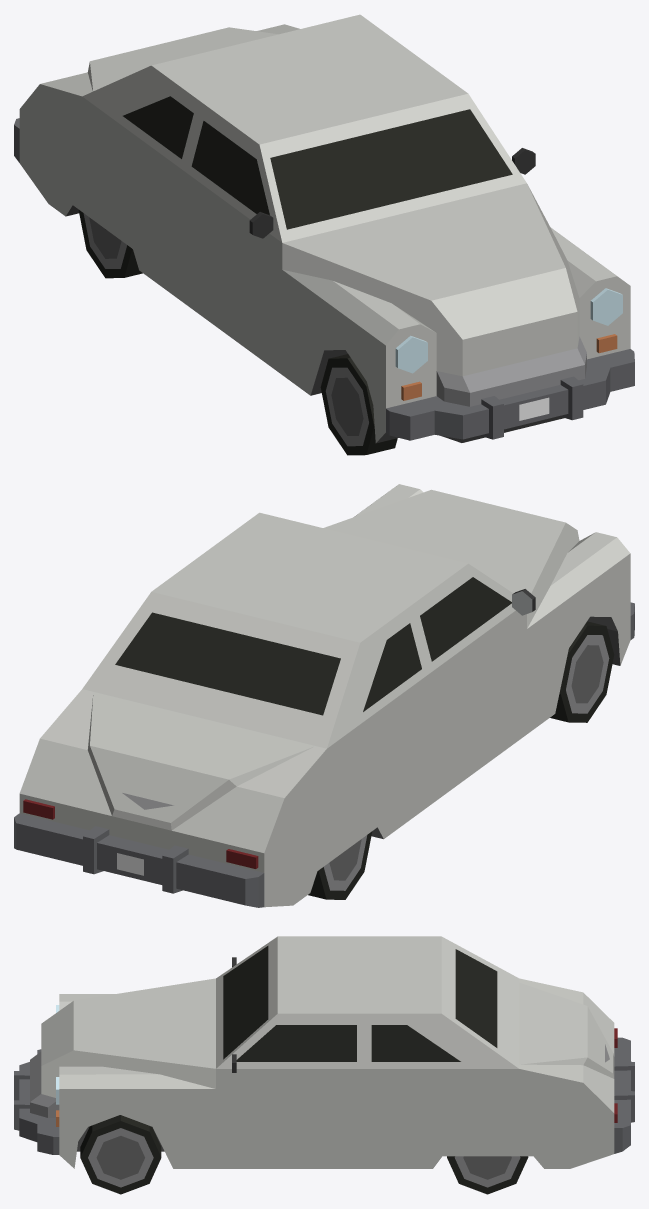
Rendered from Veh_Retro_Car_01_White.obj.
3 views of the same model, one above another, from view 1: azimuth 30°, elevation 25°; view 2: azimuth 150°, elevation 25°; view 3: azimuth 270°, elevation 25° (orthographic). The views are drawn at different scales.
Size of the model in its own units: 1.1 by 0.863 by 2.77.
